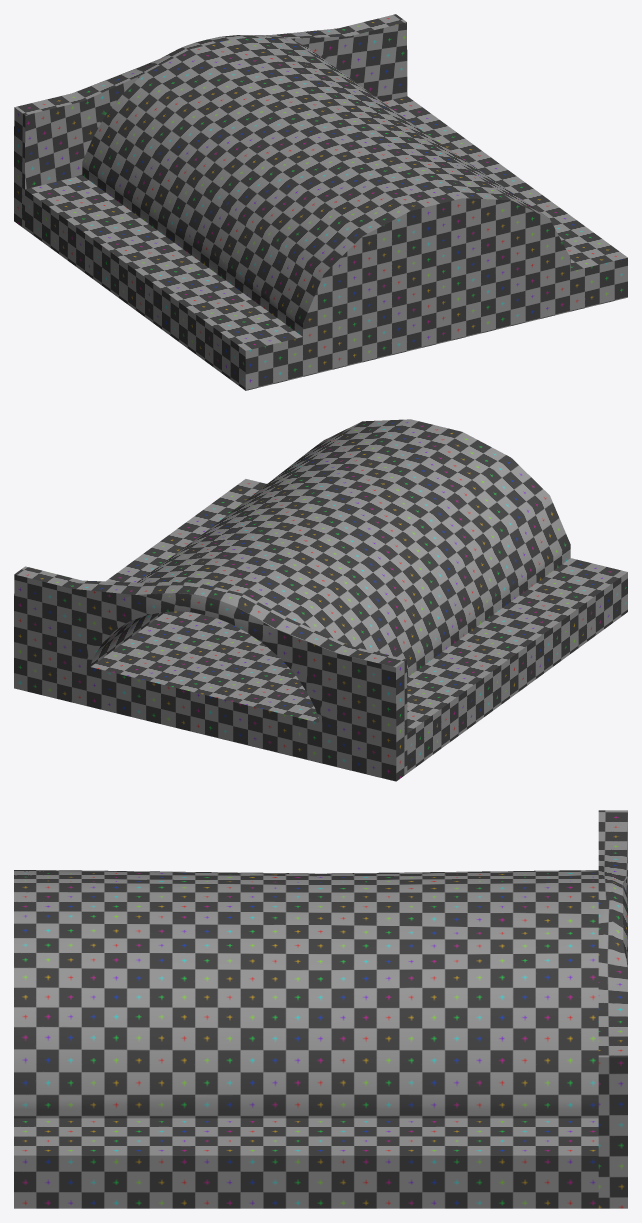
The model's file is tunnel.glb.
3 views of the same model, one above another, from view 1: azimuth 30°, elevation 25°; view 2: azimuth 150°, elevation 25°; view 3: azimuth 270°, elevation 25° (orthographic). The views are drawn at different scales.
Parts seen in each view (by area): view 1: Tunnel; view 2: Tunnel; view 3: Tunnel.
Boxes of the visible parts, bbox=[...] form: Tunnel: bbox=[14, 14, 627, 390]; Tunnel: bbox=[14, 419, 627, 781]; Tunnel: bbox=[14, 810, 627, 1208].
Bounding box in the file's own units: 20 × 6.99 × 21.
Materials: 1 (1 with a texture image).
